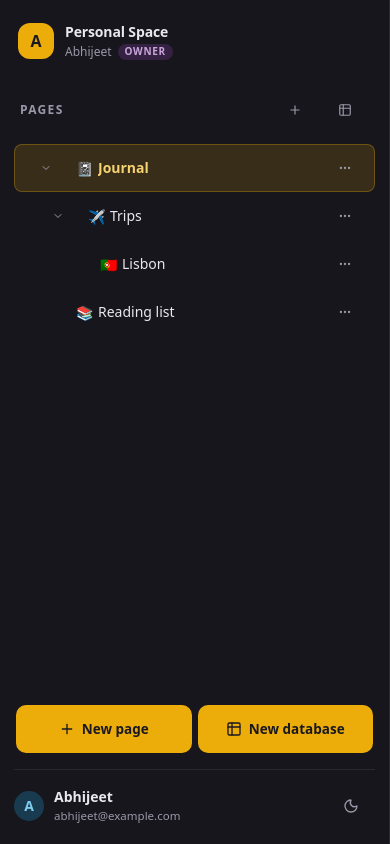
Sidebar mobile overflow menu › opens the overflow menu showing Rename, Add a page inside, and Delete
Step 1. Click the button named "Actions for Trips" → x=345, y=216, box [321,192,369,240]
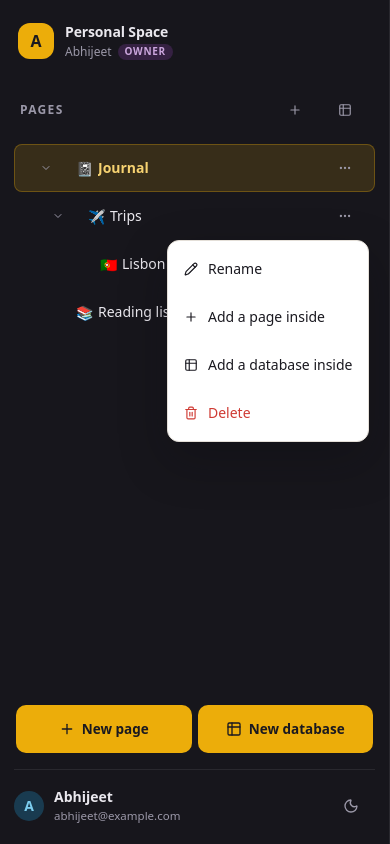
Expected: the menu item "Rename" is shown, [184,259,262,278]
Expected: the menu item "Add a page inside" is shown, [184,307,325,326]
Expected: the menu item "Delete" is shown, [184,403,251,422]
